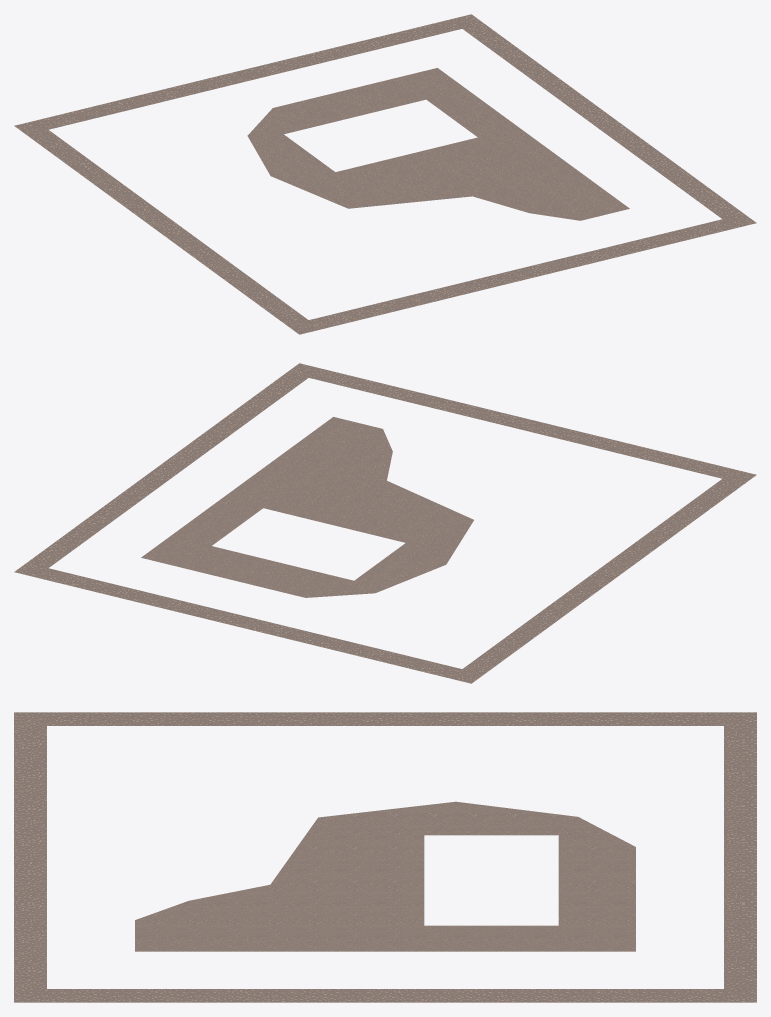
Rendered from kd_stage_136599_19_36_bounded.glb.
The picture shows the model from 3 angles, top to bottom: view 1: azimuth 30°, elevation 25°; view 2: azimuth 150°, elevation 25°; view 3: azimuth 270°, elevation 25°; orthographic projection. The views are drawn at different scales.
Visible parts, largest first — view 1: kd_stage_136599_19_36_bounded; view 2: kd_stage_136599_19_36_bounded; view 3: kd_stage_136599_19_36_bounded.
Part boxes in pixels (x1,y1,x2,y2): kd_stage_136599_19_36_bounded: (14,14,756,334); kd_stage_136599_19_36_bounded: (14,363,756,683); kd_stage_136599_19_36_bounded: (14,712,756,1002).
Size of the model in its own units: 6.62 by 4.77e-07 by 7.16.
Materials: 1 (1 with a texture image).
